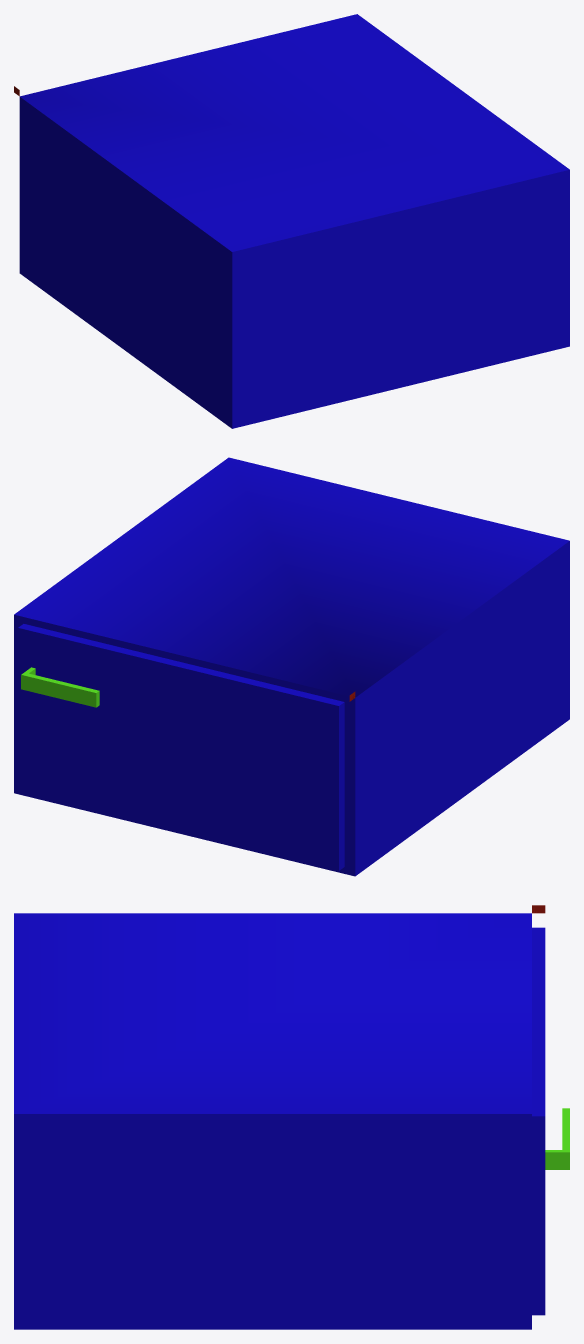
Rendered from P_Etagere01_Colored_Unbreakable.fbx.
3 renders of one model, top to bottom at view 1: azimuth 30°, elevation 25°; view 2: azimuth 150°, elevation 25°; view 3: azimuth 270°, elevation 25°, orthographic. The views are drawn at different scales.
Visible parts, largest first — view 1: P_Etagere01_Colored_Unbreakable; view 2: P_Etagere01_Colored_Unbreakable; view 3: P_Etagere01_Colored_Unbreakable.
Part boxes in pixels (<box>): P_Etagere01_Colored_Unbreakable: <box>14,14,569,428</box>; P_Etagere01_Colored_Unbreakable: <box>14,457,569,876</box>; P_Etagere01_Colored_Unbreakable: <box>14,905,569,1329</box>.
Bounding box in the file's own units: 75.9 × 39.35 × 88.82.
